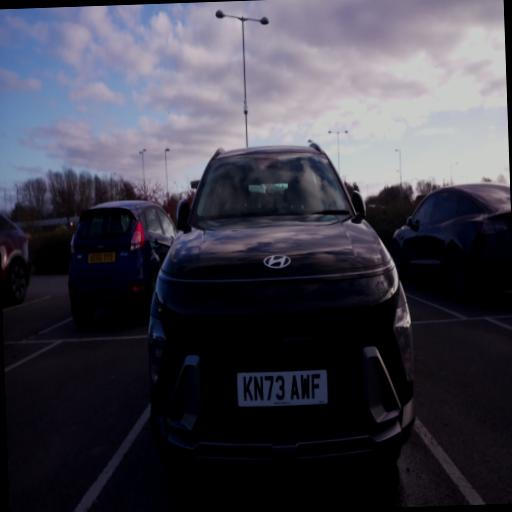numberplates: (238, 370, 328, 407), (88, 251, 115, 263)
